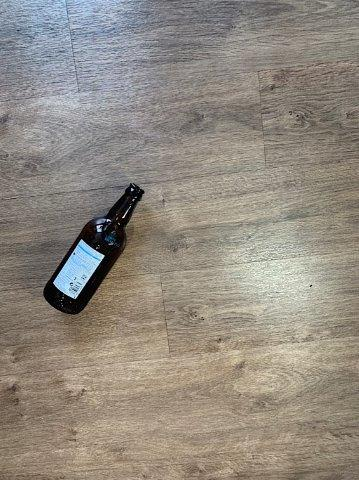botolkaca: (45, 184, 144, 314)
